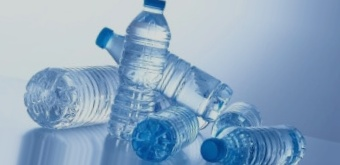plastic: (107, 0, 172, 151)
